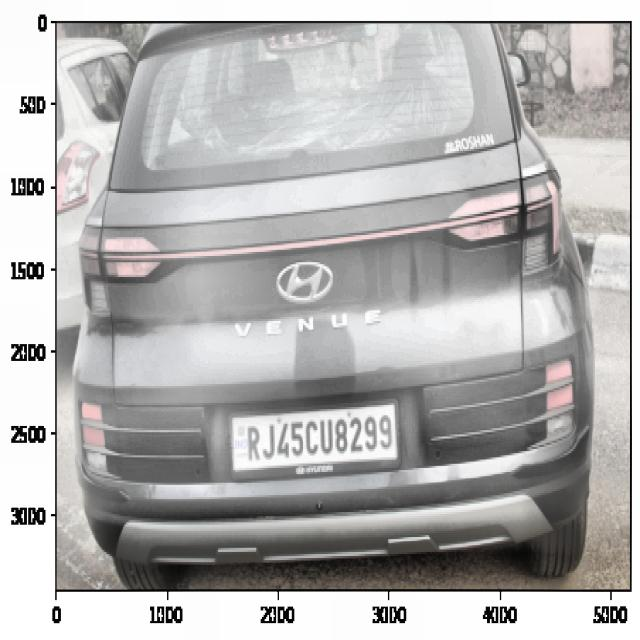license_plate: (241, 409, 397, 468)
